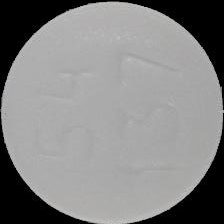43353-813: (0, 0, 224, 224)
